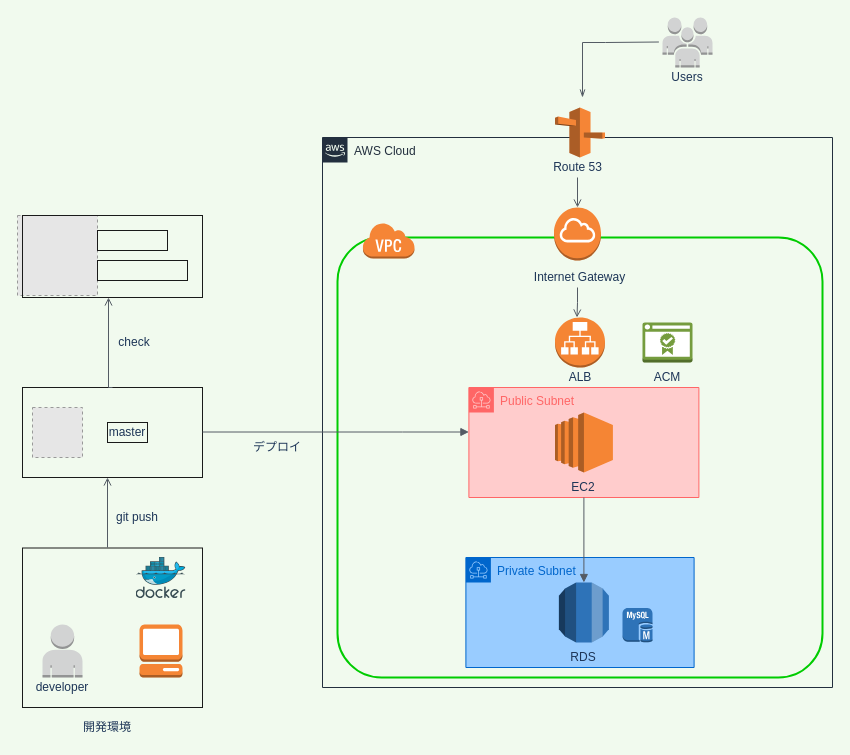
Image size: 850x755. Some labels were removed from this diagram. Grey dashed boxes stand in for pictures. Each missing label, with the centre of its shape:
"テスト実行" goes at (132,240).
"静的コード解析" goes at (142,270).
